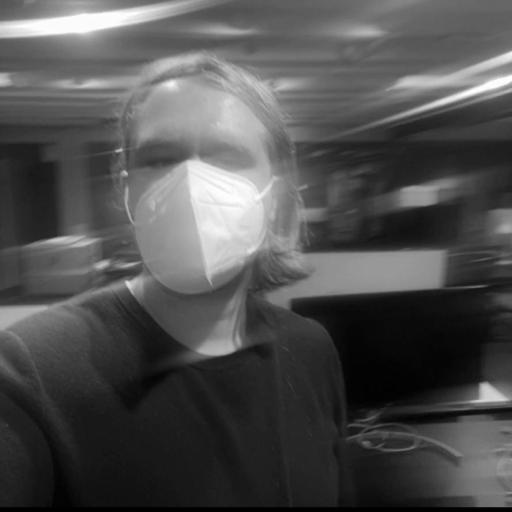mask: (107, 42, 317, 312)
